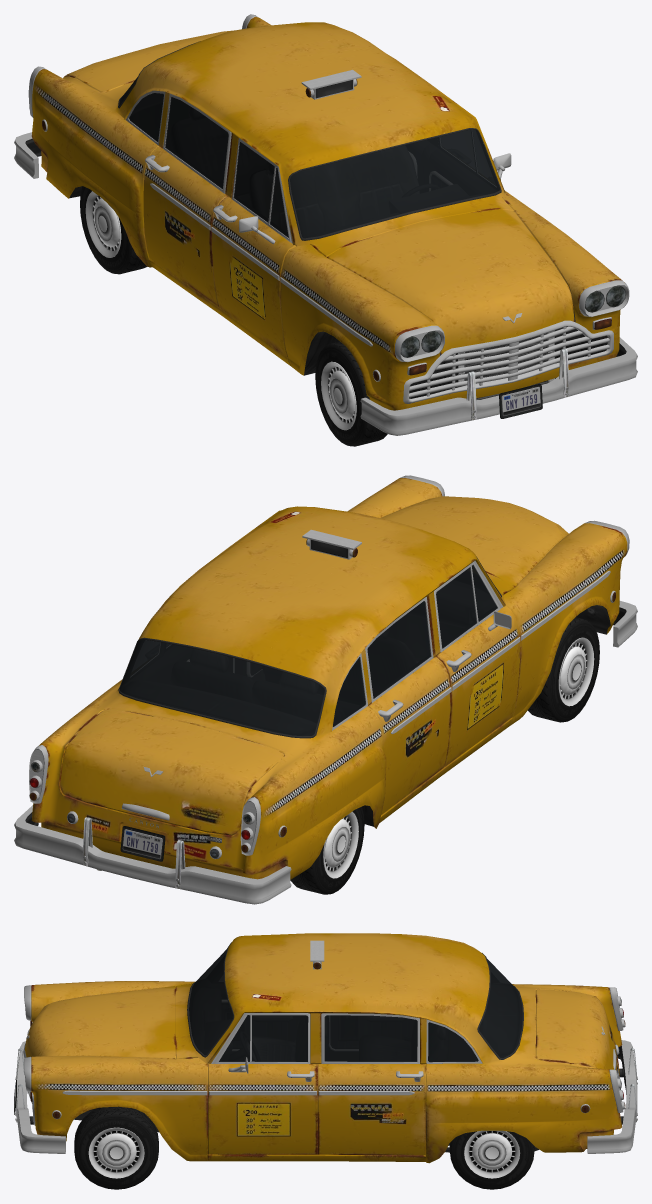
Rendered from canyon-75-taxi-low-poly-model-9e8f92.glb.
3 renders of one model, top to bottom at view 1: azimuth 30°, elevation 25°; view 2: azimuth 150°, elevation 25°; view 3: azimuth 270°, elevation 25°, orthographic. The views are drawn at different scales.
Parts seen in each view (by area): view 1: body, wheel-front-right, wheel-back-right; view 2: body, wheel-front-right, wheel-back-right; view 3: body, wheel-front-left, wheel-back-left.
Boxes of the visible parts, bbox=[...] form: body: bbox=[14, 14, 637, 435]; wheel-front-right: bbox=[315, 341, 387, 446]; wheel-back-right: bbox=[80, 186, 147, 274]; body: bbox=[14, 475, 637, 904]; wheel-front-right: bbox=[528, 617, 599, 722]; wheel-back-right: bbox=[241, 806, 364, 894]; body: bbox=[14, 933, 637, 1163]; wheel-front-left: bbox=[74, 1106, 158, 1189]; wheel-back-left: bbox=[449, 1091, 623, 1189].
Size of the model in its own units: 2.13 by 1.83 by 5.31.
8 materials, 8 textured.
